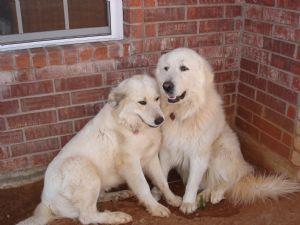Great_Pyrenees: (19, 70, 182, 224), (155, 46, 299, 216)
